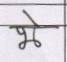e_matra: (23, 10, 40, 24)
